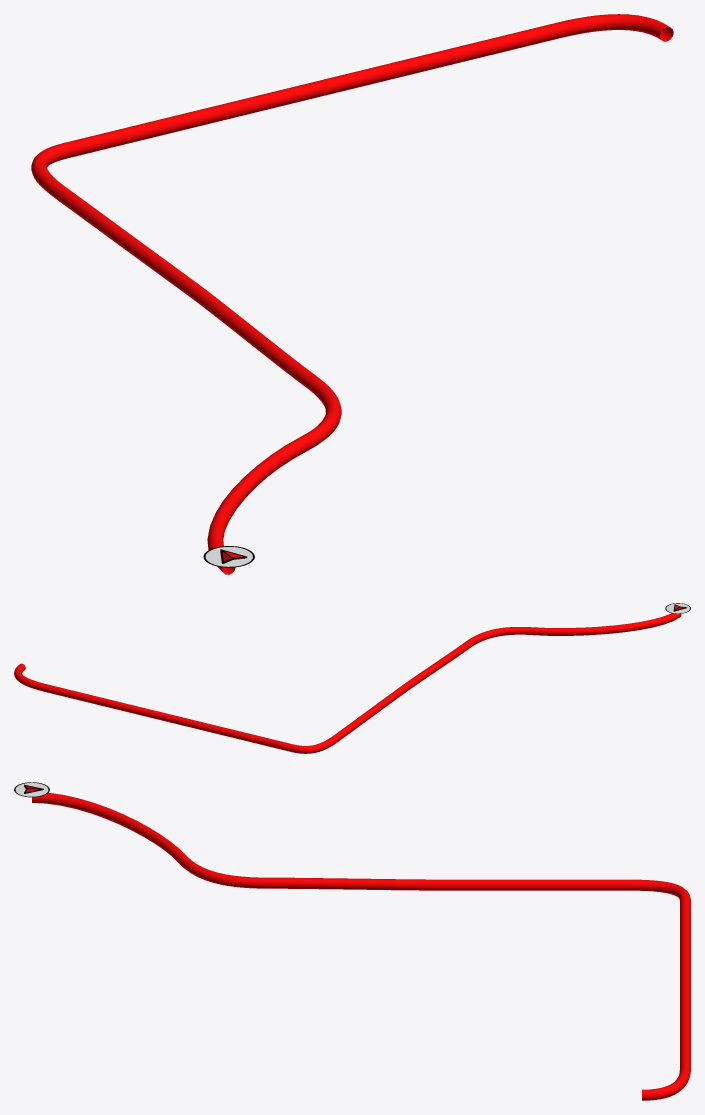
The model's file is route_0d52cc40-dc55-4aa6-8f7f-d14d491bcca1_de_single.glb.
3 renders of one model, top to bottom at view 1: azimuth 30°, elevation 25°; view 2: azimuth 150°, elevation 25°; view 3: azimuth 270°, elevation 25°, orthographic. The views are drawn at different scales.
Parts seen in each view (by area): view 1: B3, Abteil 2, Navipfeil.020; view 2: B3, Abteil 2; view 3: B3, Abteil 2.
Boxes of the visible parts, box(x1,y1,x2,y2) form: B3, Abteil 2: box(31, 14, 673, 574); Navipfeil.020: box(203, 546, 254, 567); B3, Abteil 2: box(14, 613, 681, 753); B3, Abteil 2: box(32, 792, 690, 1100).
Size of the model in its own units: 5.25 by 0.1062 by 4.88.
